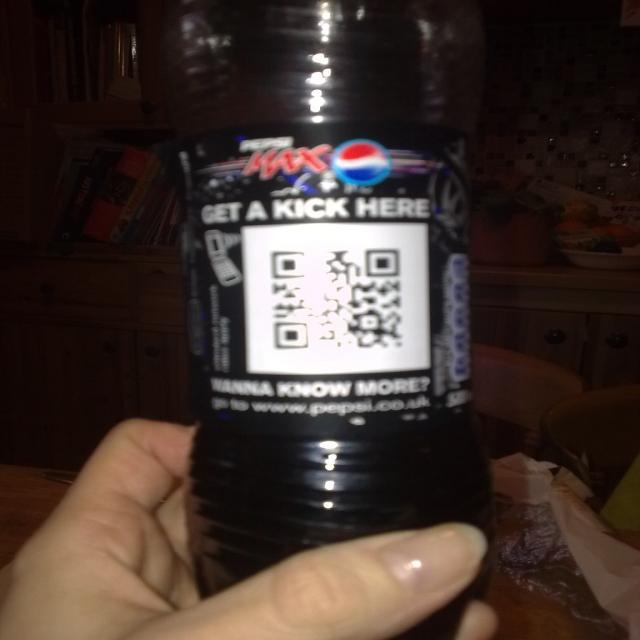qr-code: (270, 249, 402, 349)
